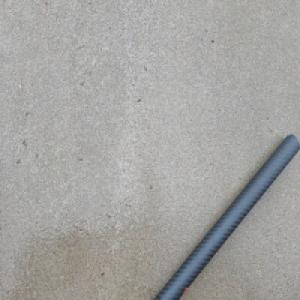LuggagePart: (152, 132, 299, 300)
